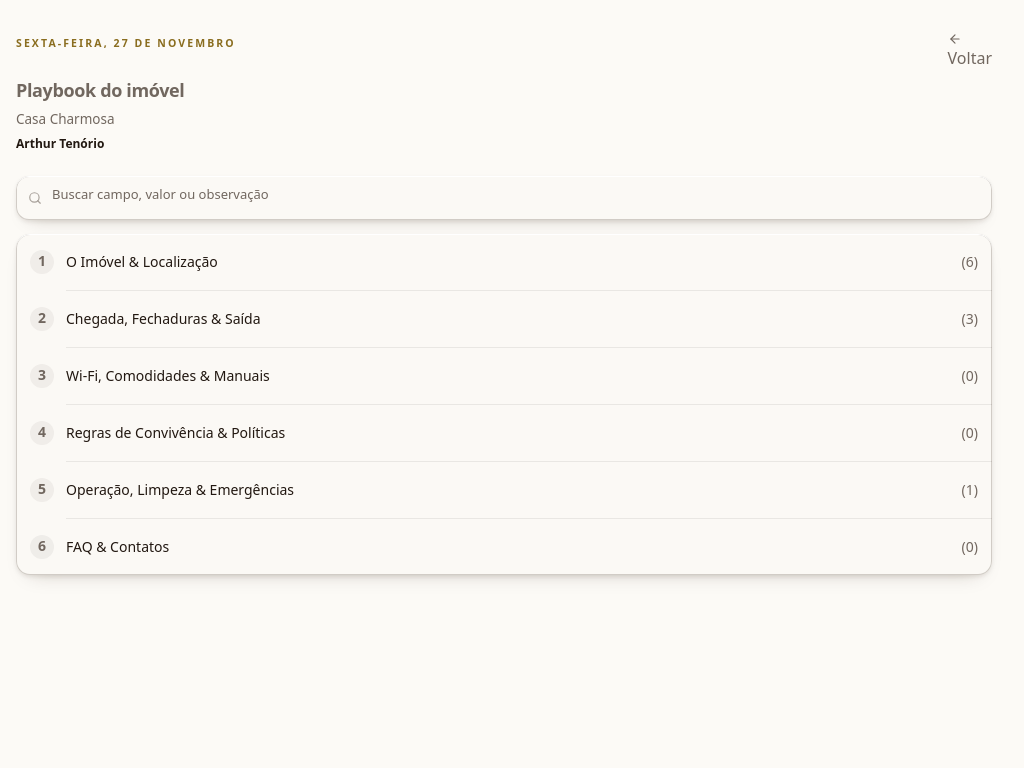
PlaybookPage (celular) › lista plana: (quantidade) ao lado do título, sem legenda, abre uma seção com campos em linhas
Expected: the text "Arthur Tenório" is shown, [16, 136, 104, 152]
Expected: the text "Link do mapa" is not shown
Click the button "1 O Imóvel & Localização (6)". click: (142, 262)
box: [30, 250, 978, 274]
(page scrolled)
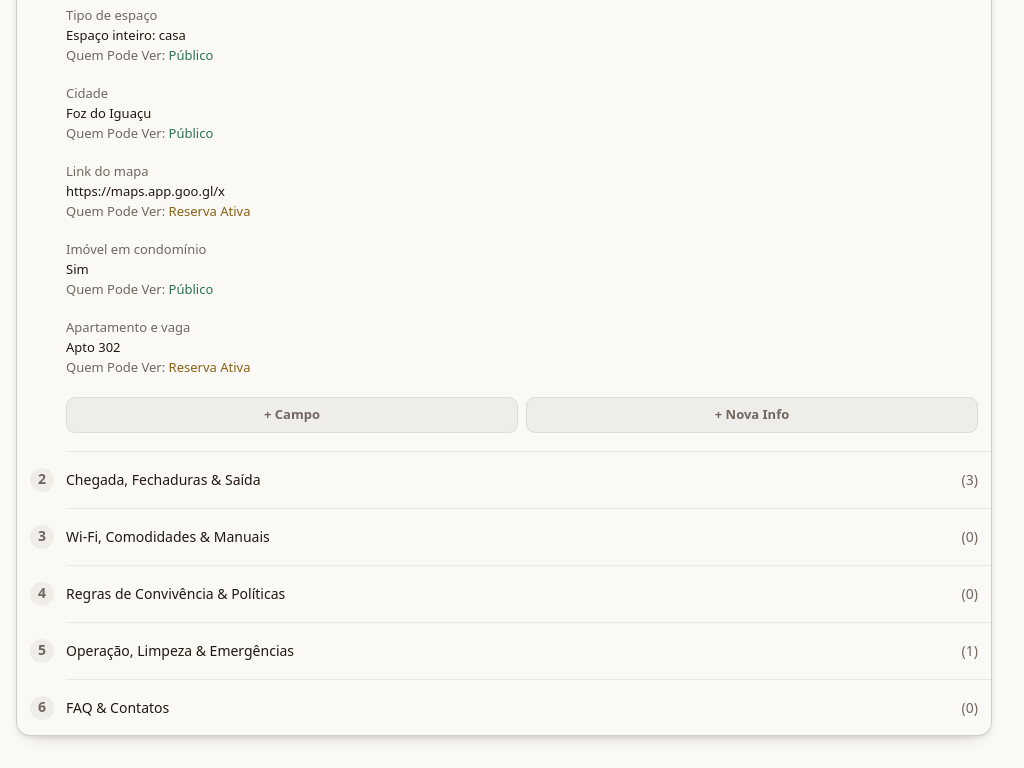
Expected: the text "Link do mapa" is shown, [66, 162, 148, 180]
Click the button "2 Chegada, Fechaduras & Saída (3)". click: (163, 480)
box: [30, 468, 978, 492]
(page scrolled)
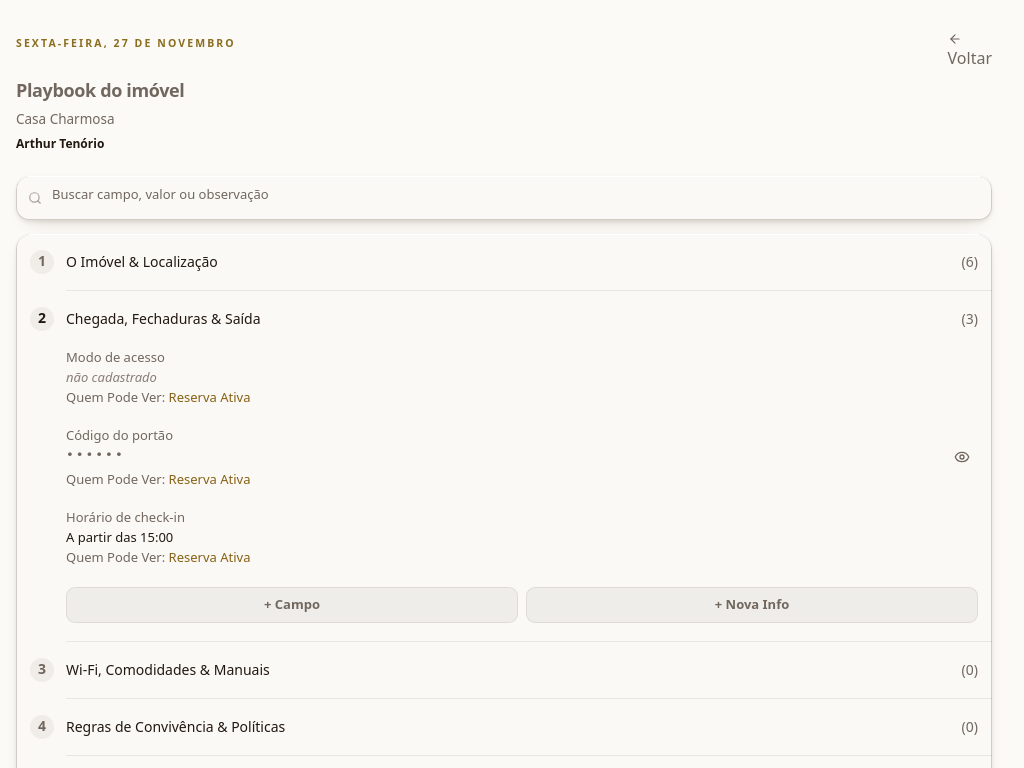
Expected: the text "Quem Pode Ver: Reserva Ativa" below "não cadastrado" is shown, [66, 388, 169, 406]
Expected: the text "Link do mapa" is gone
Expected: the text "Código do portão" is shown, [66, 426, 173, 444]
